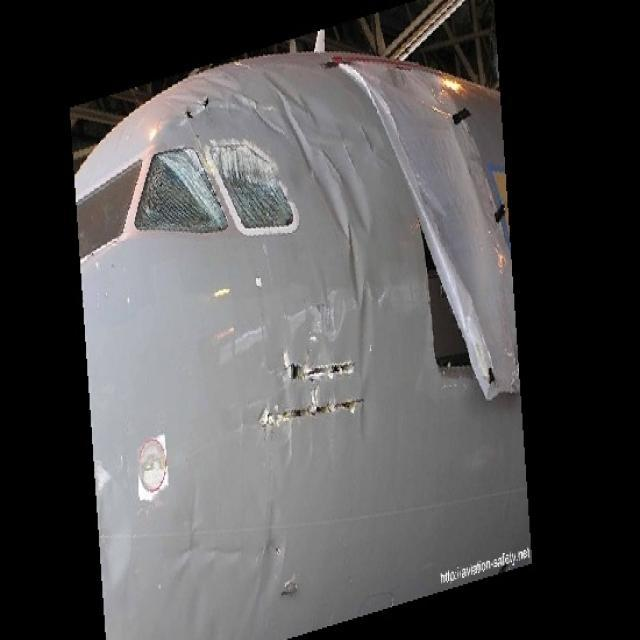crack: (255, 360, 369, 427)
